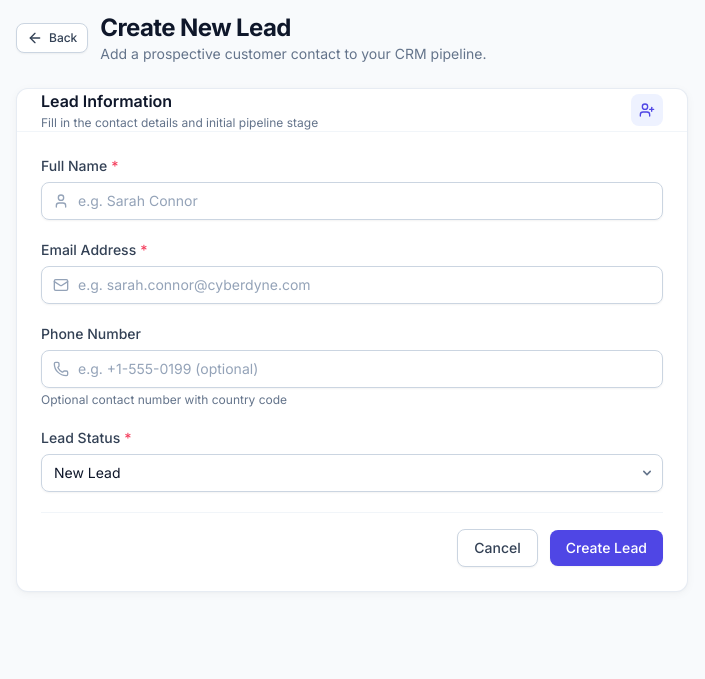
Test case: CreateLeadPage › displays API error when backend rejects submission with conflict
Type "Dwight Schrute" into the field labelled "Full Name*" at coordinates (352, 201), box x1=41 y1=182 x2=663 y2=220
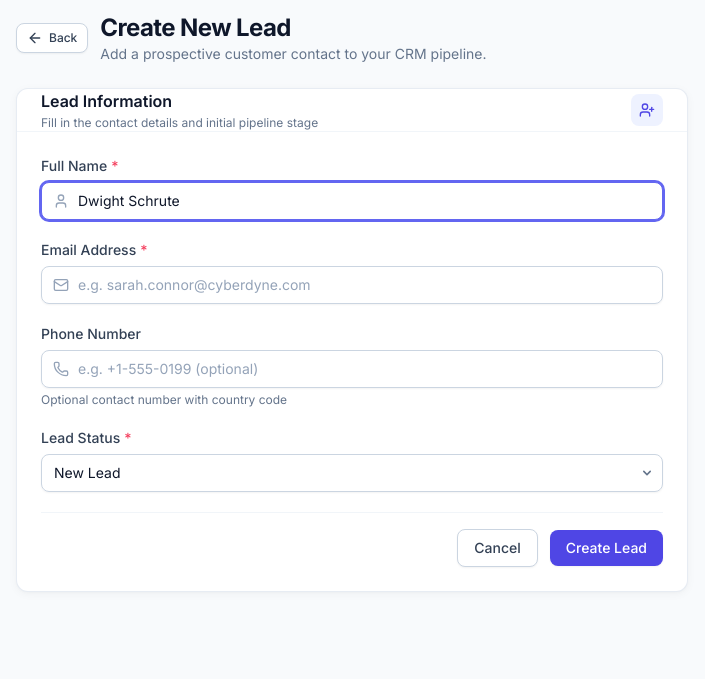
Type "dwight@dundermifflin.com" into the field labelled "Email Address*" at coordinates (352, 285), box x1=41 y1=266 x2=663 y2=304
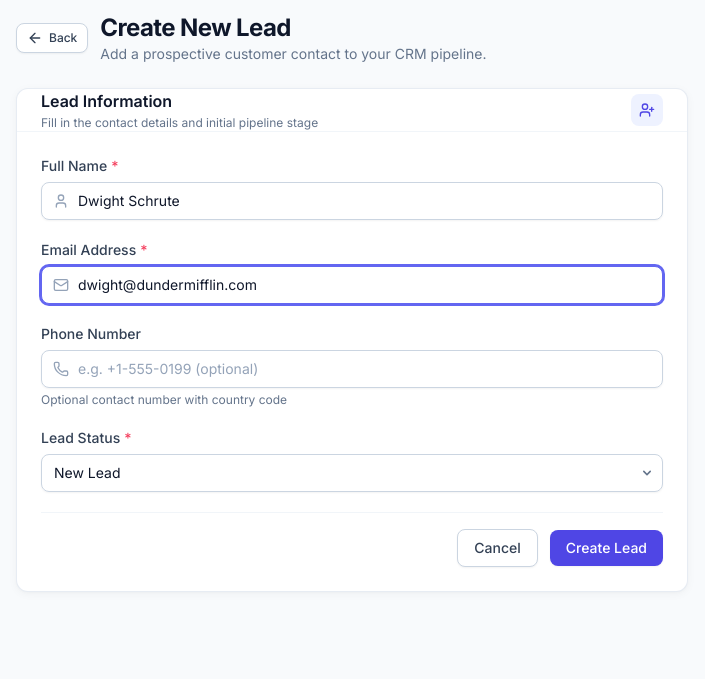
Click the button "Create Lead" at coordinates (606, 548), box x1=550 y1=530 x2=663 y2=566
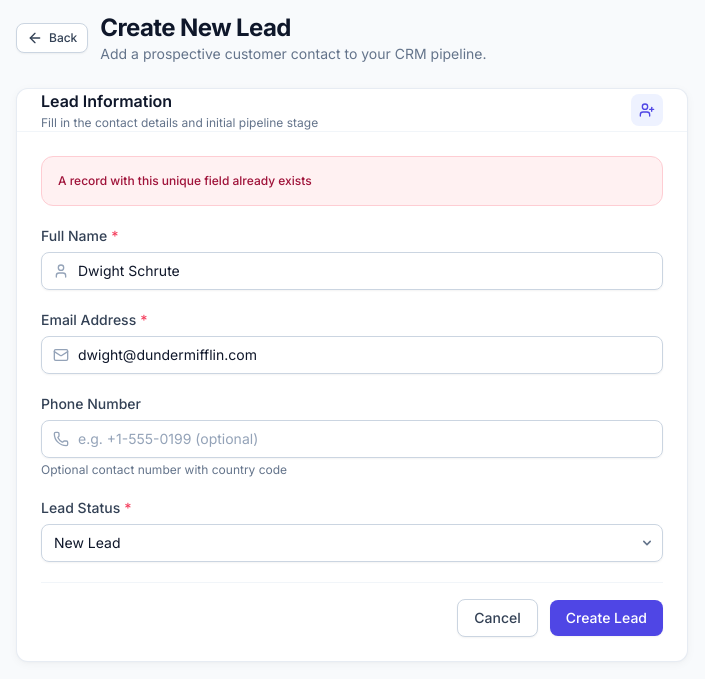
Expected: the text "A record with this unique field already exists" is shown, x1=41 y1=156 x2=663 y2=206
